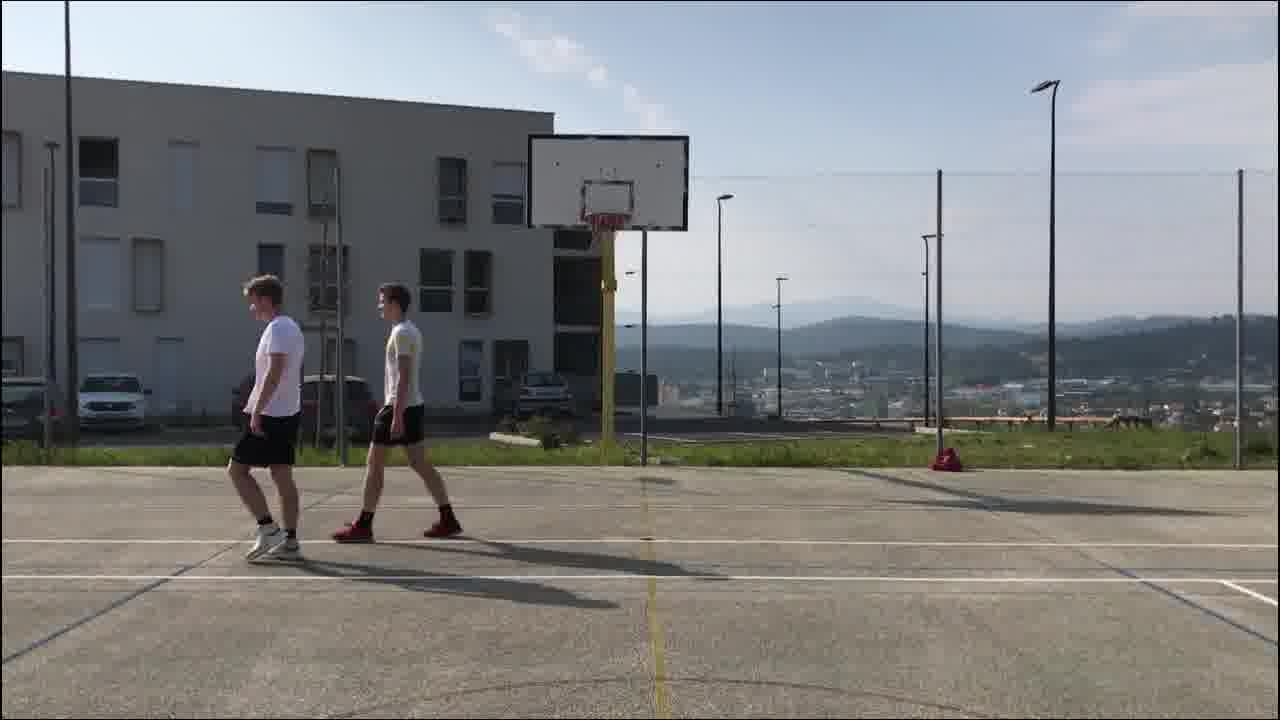jugador: (320, 275, 468, 552)
